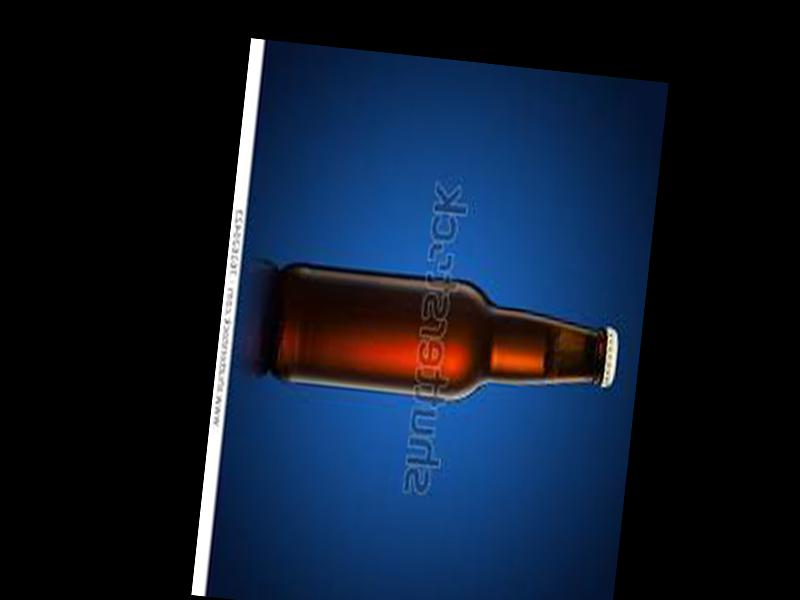Beer: (267, 260, 624, 418)
